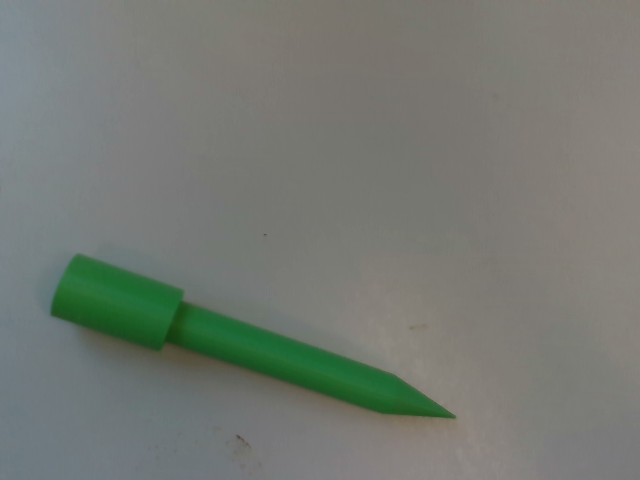Probe: (43, 248, 464, 424)
